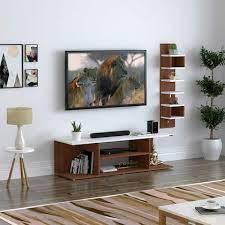TV: (61, 48, 150, 112)
console: (54, 130, 173, 181), (153, 189, 225, 224)
light: (6, 106, 35, 148)
table: (6, 146, 35, 191)
